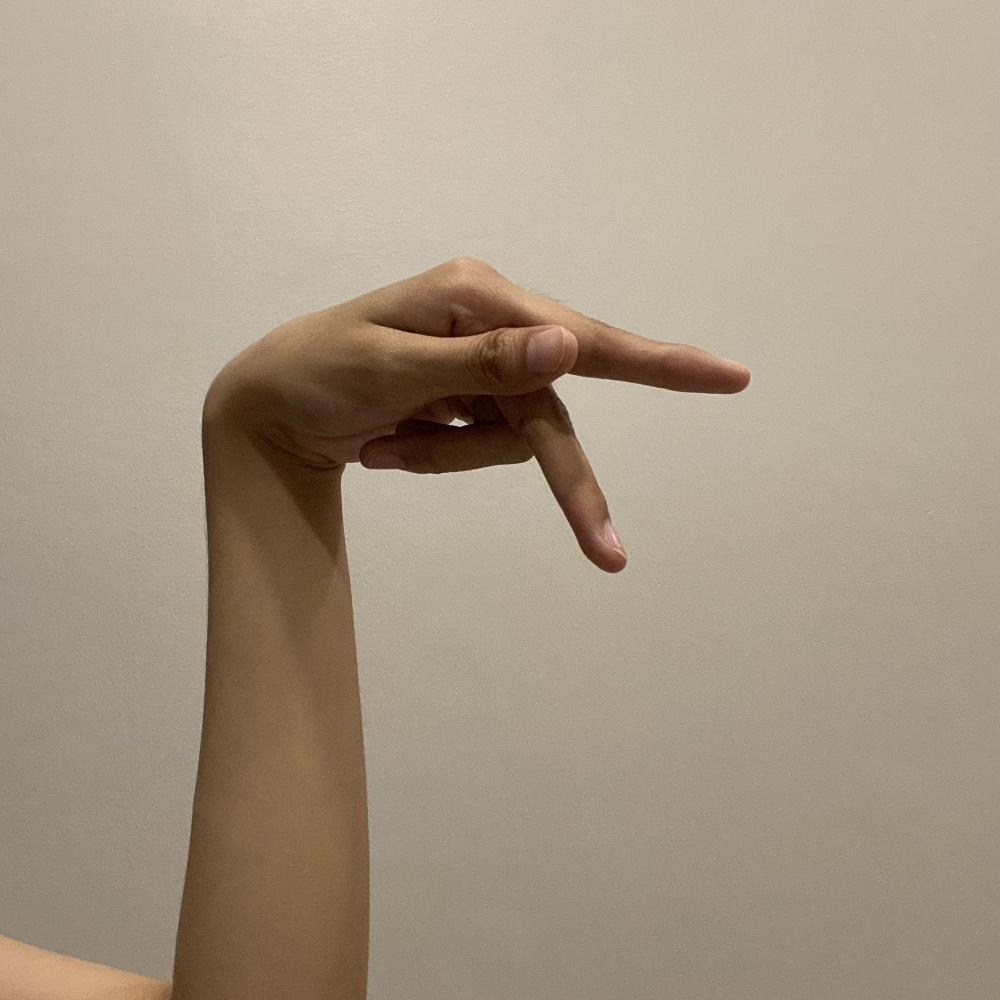p: (272, 246, 756, 578)
